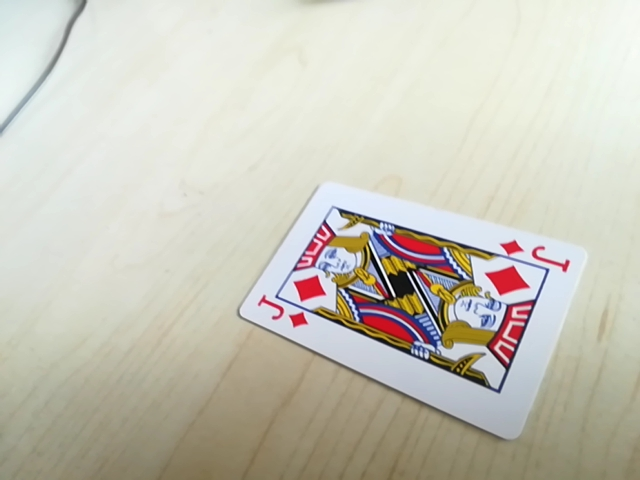fk j: (499, 236, 574, 269), (252, 300, 311, 333)
